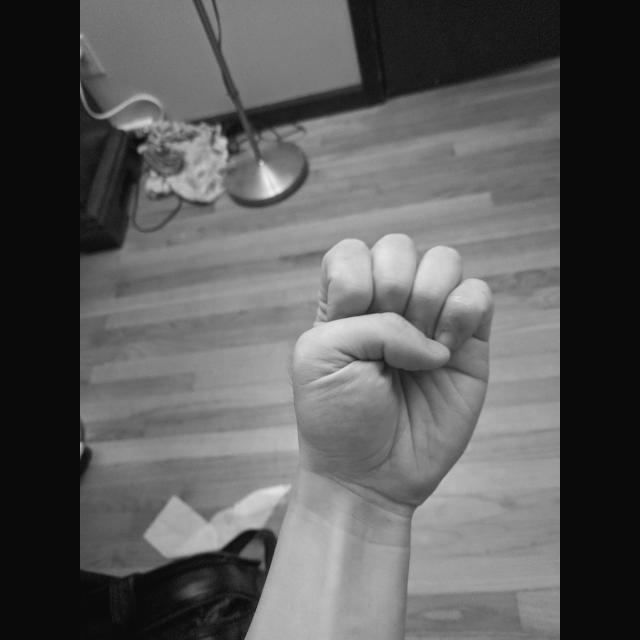E: (288, 228, 500, 520)
